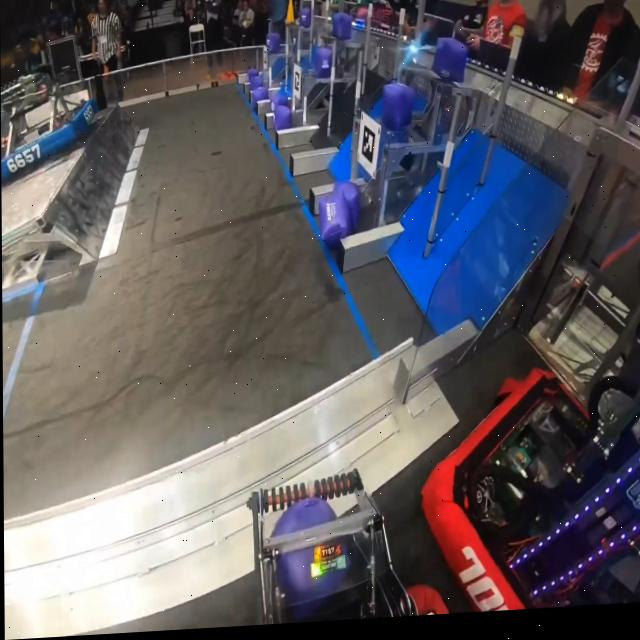robot: (419, 367, 640, 621), (0, 73, 98, 184)
